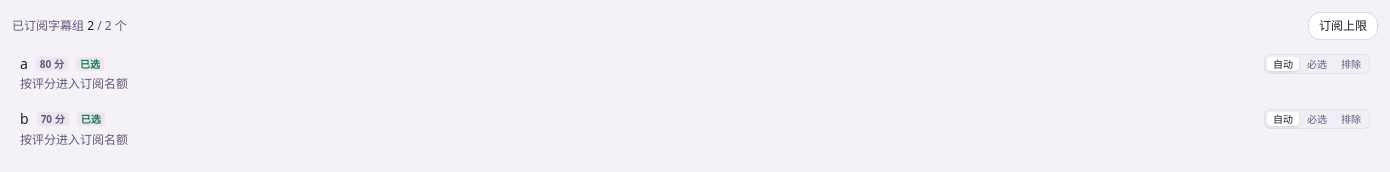
字幕组 tab 未保存编辑的选择预览 › 草稿：预览失败保留上一次数字并给出简短错误
Click the radio button labelled "排除" in the row of "70 分" at coordinates (1351, 119), box 1341,112 -> 1361,126
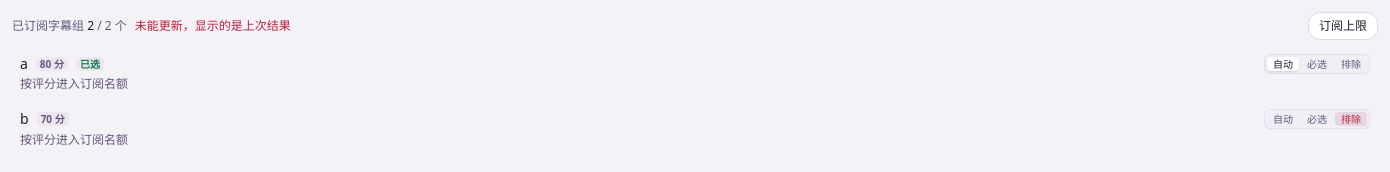
Result: the text "未能更新，显示的是上次结果" is shown at 135,17 -> 291,35
